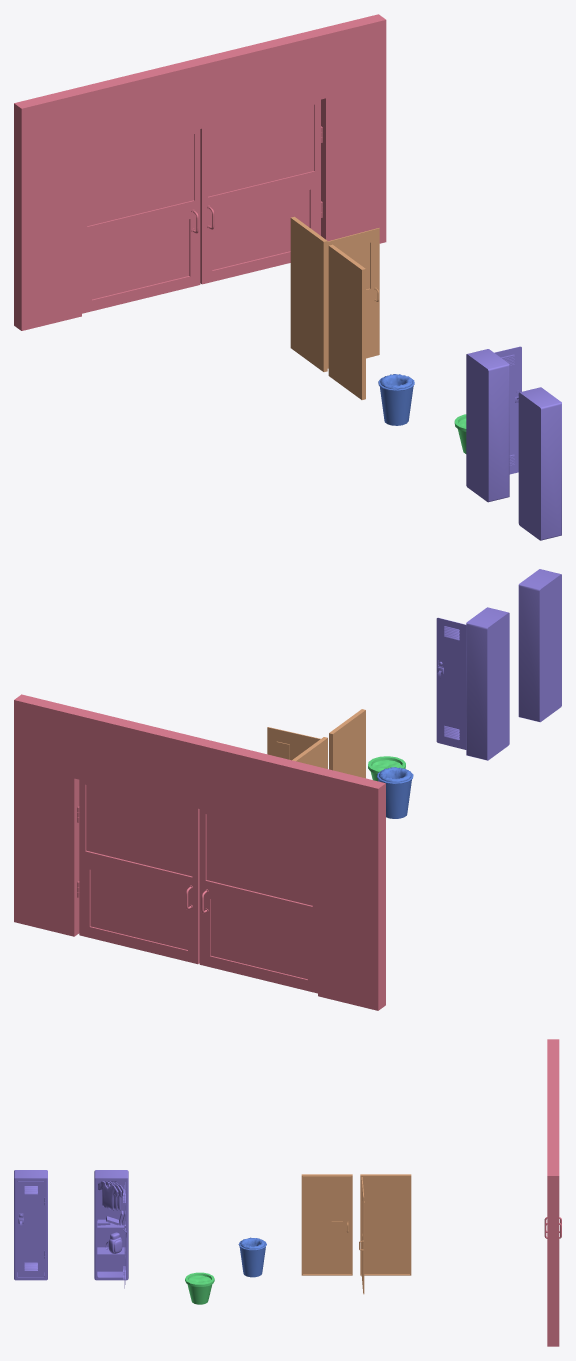
Rendered from Props.fbx.
3 views of the same model, one above another, from view 1: azimuth 30°, elevation 25°; view 2: azimuth 150°, elevation 25°; view 3: azimuth 270°, elevation 25° (orthographic). The views are drawn at different scales.
Parts seen in each view (by area): view 1: Cube.001, Cube.003, Cube.002, Cube.010, Cube.005, Cube.006, Cube.027, Cube.028, Cube.012, Cylinder.005; view 2: Cube.001, Cube.003, Cube.002, Cube.005, Cube.010, Cube.012, Cube.006, Cube.028, Cylinder.005, Cube.027; view 3: Cube.027, Cube.004, Cube.001, Cube.010, Cube.022, Cube.005, Cube.006, Cylinder.005, Cylinder.004, Cube.028.
Boxes of the visible parts, x1,y1,x2,y2 form: Cube.001: (14,14,386,330); Cube.003: (82,99,320,313); Cube.002: (87,105,314,225); Cube.010: (466,349,509,502); Cube.005: (518,387,561,540); Cube.006: (328,244,365,399); Cube.027: (290,216,327,371); Cube.028: (327,228,379,368); Cube.012: (494,346,521,474); Cylinder.005: (378,377,414,425); Cube.001: (14,694,385,1010); Cube.003: (79,779,317,993); Cube.002: (86,785,312,905); Cube.005: (518,569,561,722); Cube.010: (466,607,509,760); Cube.012: (436,617,466,749); Cube.006: (329,709,365,778); Cube.028: (267,727,320,760); Cylinder.005: (377,770,413,818); Cube.027: (292,737,327,768); Cube.027: (360,1174,411,1275); Cube.004: (303,1176,351,1273); Cube.001: (547,1039,559,1346); Cube.010: (94,1170,128,1280); Cube.022: (17,1181,44,1277); Cube.005: (14,1170,47,1280); Cube.006: (301,1174,352,1275); Cylinder.005: (238,1240,266,1277); Cylinder.004: (185,1272,214,1304); Cube.028: (361,1177,364,1294).
Bounding box in the file's own units: 693 × 420 × 1177.
